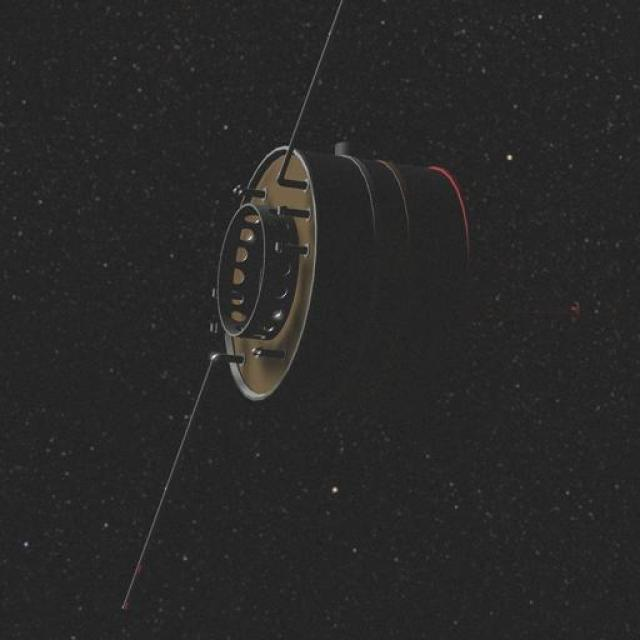double_start: (182, 139, 504, 431)
